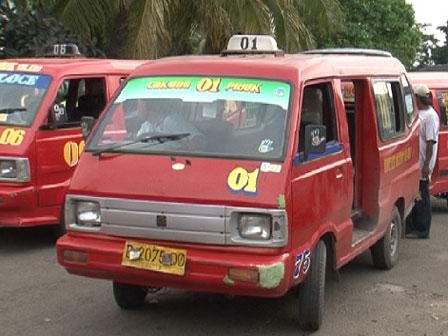plate: (120, 239, 186, 275)
